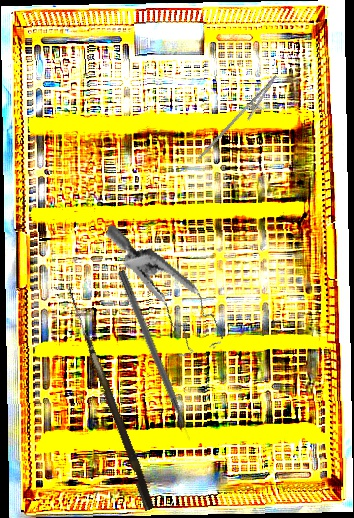Hook Surgical: (57, 286, 159, 512)
Needle Holder: (197, 66, 285, 173)
Pusher: (115, 269, 194, 443)
Speculum: (76, 224, 246, 368)
